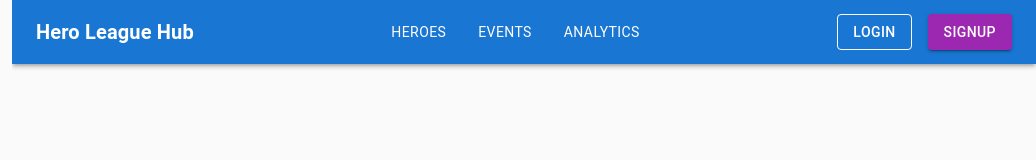
it: Navbar › navigates to Events page
The width and height of the screenshot is (1036, 160).
Click the link with test id "nav-events" at (505, 32), box [478, 24, 532, 40]
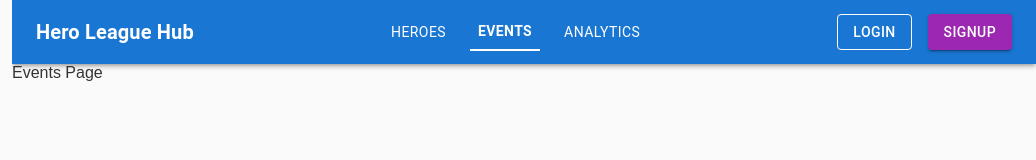
Now the text "Events Page" is shown, box [12, 64, 103, 81]
